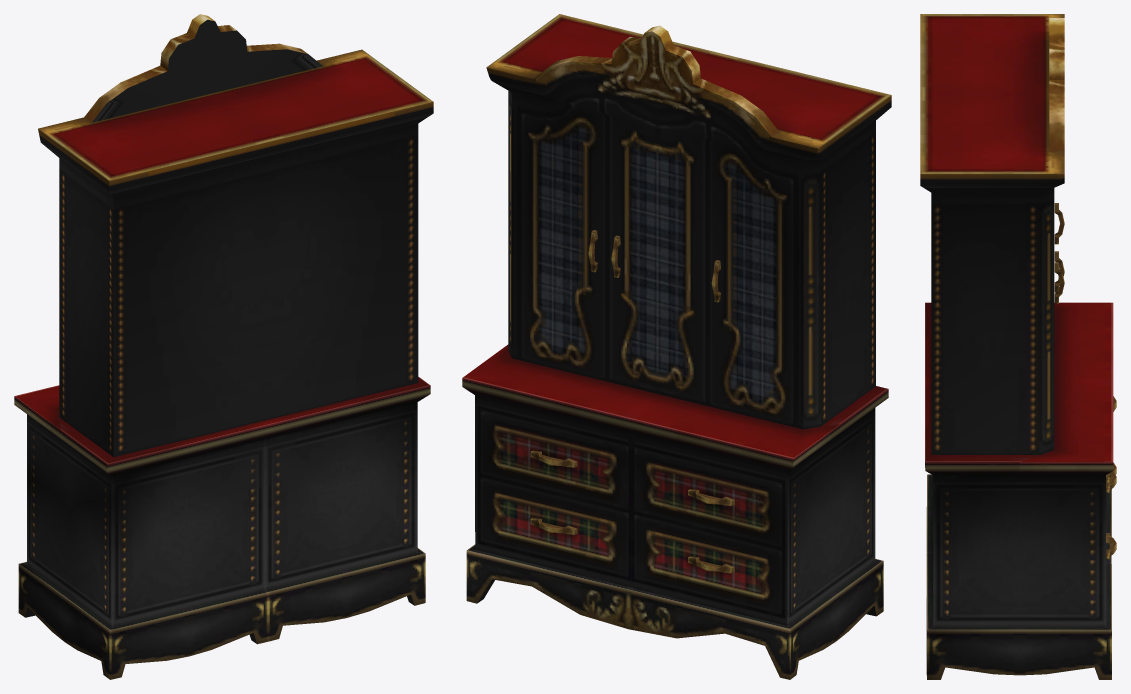
Rendered from furni_0200315.FBX.
3 renders of one model, left to right at view 1: azimuth 30°, elevation 25°; view 2: azimuth 150°, elevation 25°; view 3: azimuth 270°, elevation 25°, orthographic. The views are drawn at different scales.
Parts seen in each view (by area): view 1: furni_0200315; view 2: furni_0200315; view 3: furni_0200315.
Part boxes in pixels (bbox=[...]): furni_0200315: bbox=[14, 14, 433, 679]; furni_0200315: bbox=[462, 14, 891, 679]; furni_0200315: bbox=[920, 14, 1116, 679].
Size of the model in its own units: 164 by 279 by 85.12.
